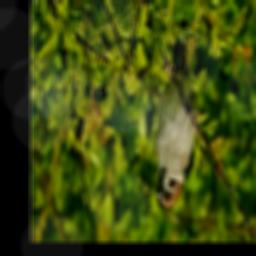Sparrow: (154, 19, 197, 207)
